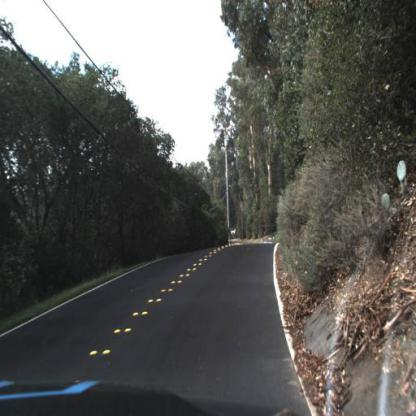car: (230, 222, 243, 240)
